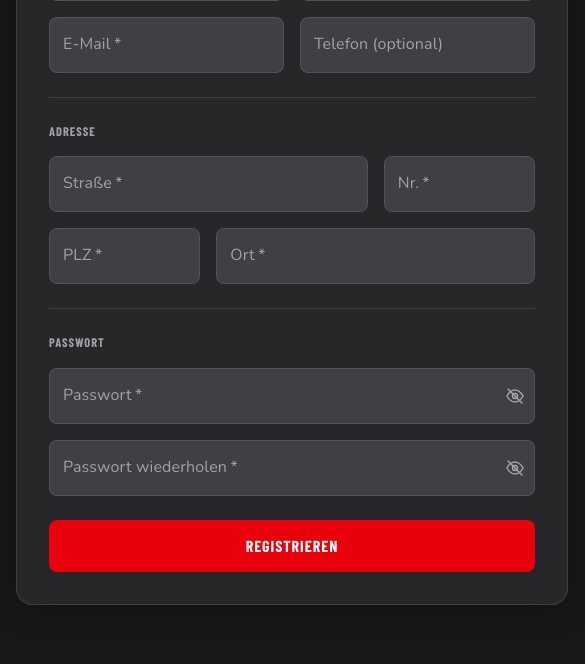
Scenario: US16 – Registrierungsformular (Black-Box) › E-Mail leer → Fehler "Pflichtfeld"
(page scrolled)
Click the button "Registrieren".
click(292, 546)  # box top-left (49, 520), bottom-right (535, 572)
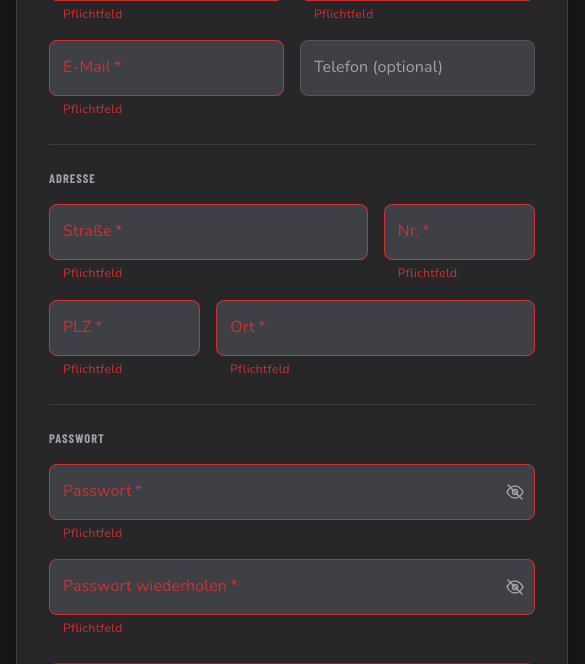
Expected: the element labelled "E-Mail * Pflichtfeld" is shown, top-left (49, 40), bottom-right (284, 120)
